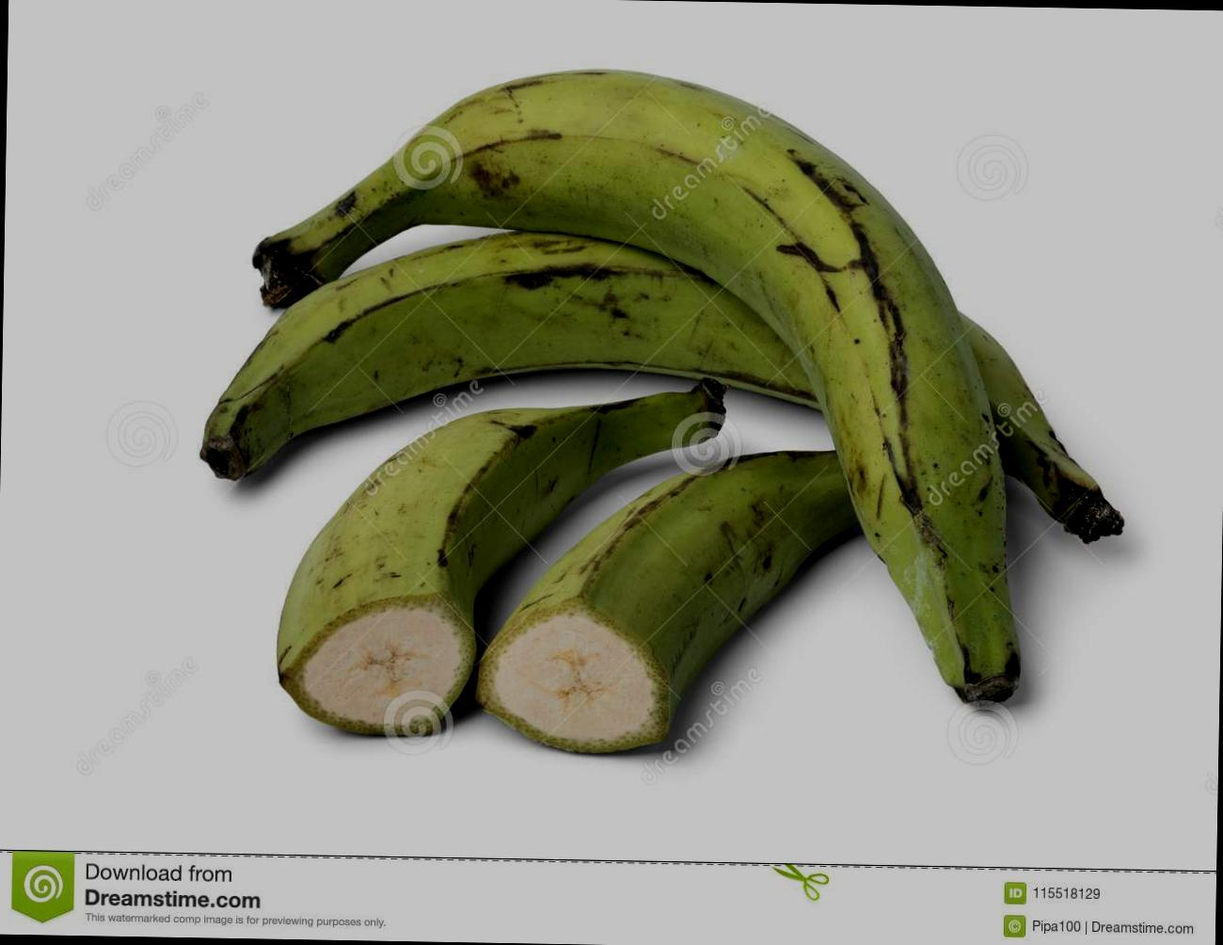Banana Unripe: (123, 81, 1171, 861)
